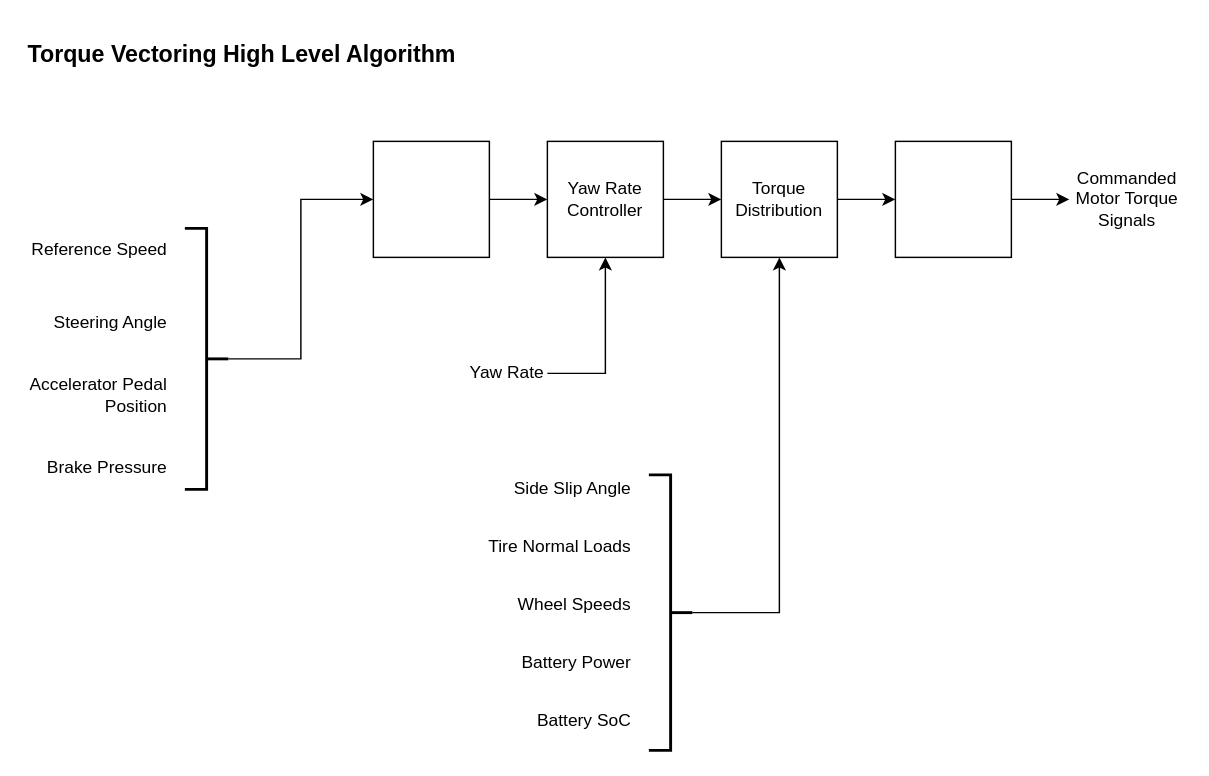
The diagram is 1209 pixels wide and 776 high, and some of its shapes have lost their labels. The centre of each missing label's shape, as x and y in pixels:
Output Validation: [952,198]
Reference Generation: [430,198]
